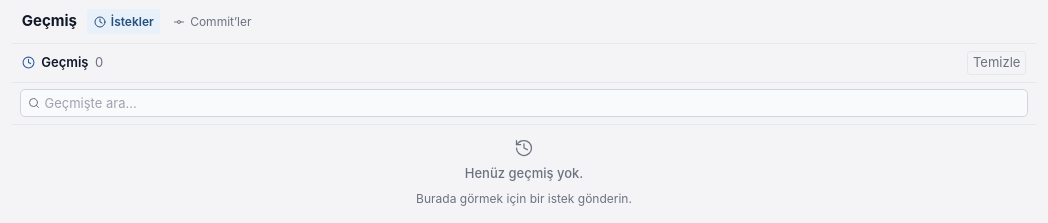
Test: issue #248 follow-up — History sidebar in Turkish › commits list: title, refresh and relative dates are Turkish
What coordinates should you click on to do the following:
click the button "Commit’ler"
I would click on:
 (212, 22)
Its box is [167,9,258,34].
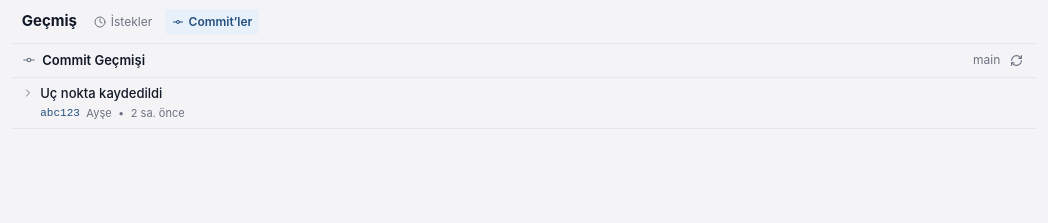
Expected: the text "2 sa. önce" is shown, [131,105,185,122]
Expected: the text "Commit Geçmişi" is shown, [42,50,145,70]
Expected: the button named "Commit geçmişini yenile" is shown, [1007,50,1026,70]
